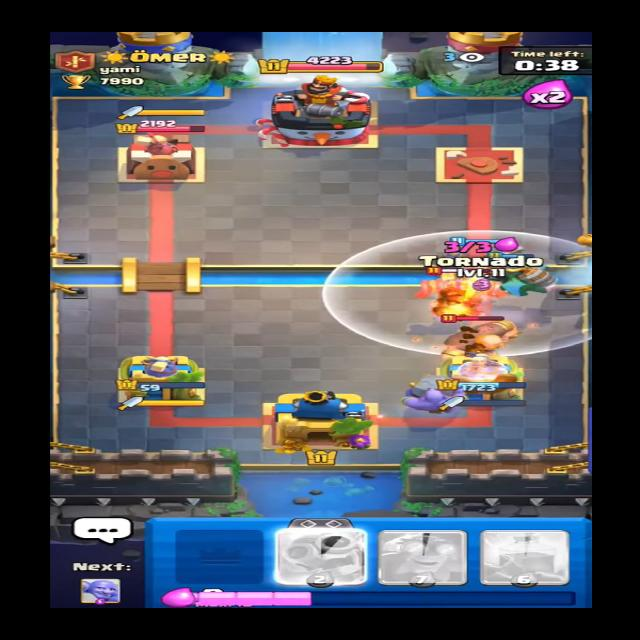giant: (426, 308, 520, 361)
goblin-machine: (410, 268, 511, 313)
